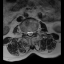CCS_normal: (29, 29, 31, 37)
LFS_normal: (33, 29, 35, 35)
LLS_normal: (31, 29, 33, 36)
RFS_normal: (25, 30, 27, 36)
RLS_normal: (27, 30, 29, 36)
